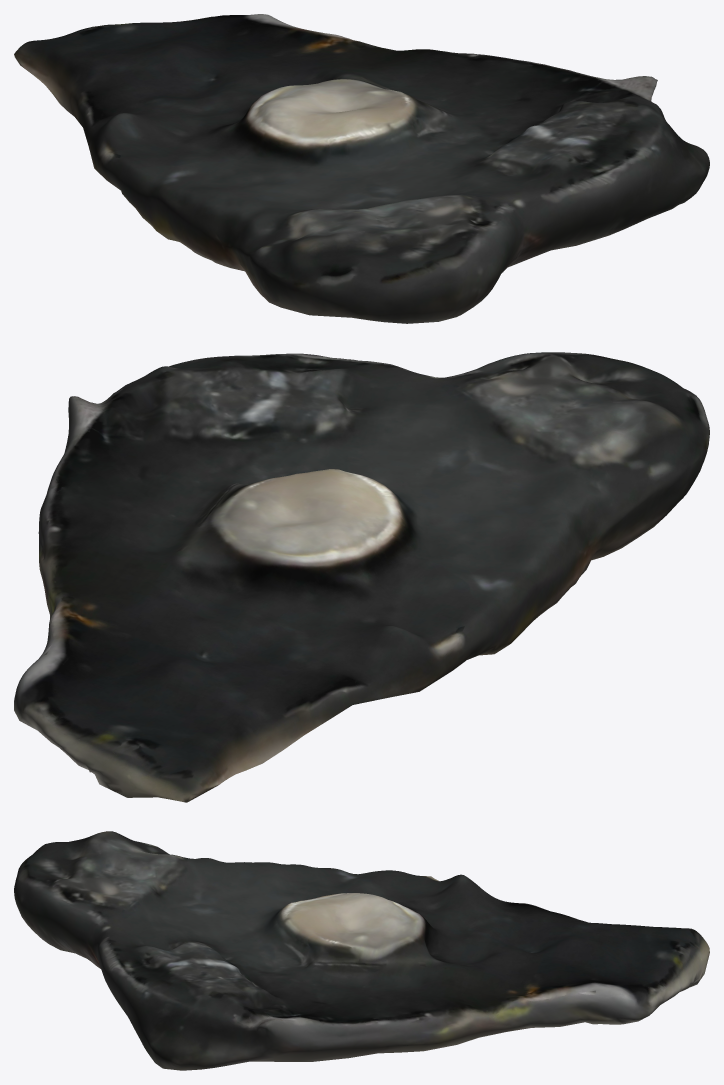
3 renders of one model, top to bottom at view 1: azimuth 30°, elevation 25°; view 2: azimuth 150°, elevation 25°; view 3: azimuth 270°, elevation 25°, orthographic. The views are drawn at different scales.
Bounding box in the file's own units: 0.3733 × 0.0942 × 0.5724.
Materials: 1 (1 with a texture image).
